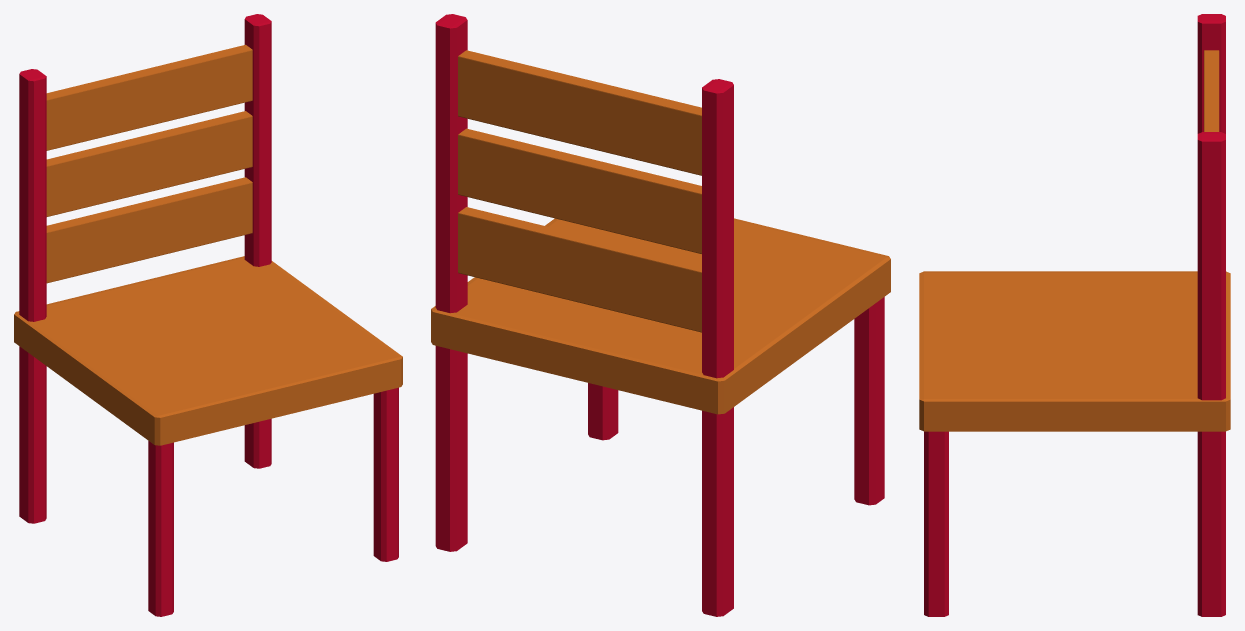
The model's file is Chair.fbx.
3 views of the same model, side by side, from view 1: azimuth 30°, elevation 25°; view 2: azimuth 150°, elevation 25°; view 3: azimuth 270°, elevation 25° (orthographic). The views are drawn at different scales.
Parts seen in each view (by area): view 1: Chair's Buttom, Chair's Back, Chair's Base; view 2: Chair's Back, Chair's Buttom, Chair's Base; view 3: Chair's Buttom, Chair's Base, Chair's Back.
Part boxes in pixels (x1,y1,x2,y2): Chair's Buttom: [14, 256, 402, 445]; Chair's Back: [46, 44, 252, 283]; Chair's Base: [19, 14, 398, 616]; Chair's Back: [458, 50, 701, 332]; Chair's Buttom: [431, 218, 890, 414]; Chair's Base: [435, 14, 884, 616]; Chair's Buttom: [919, 271, 1230, 431]; Chair's Base: [924, 14, 1225, 616]; Chair's Back: [1204, 50, 1219, 131].
Size of the model in its own units: 204 by 348 by 206.
